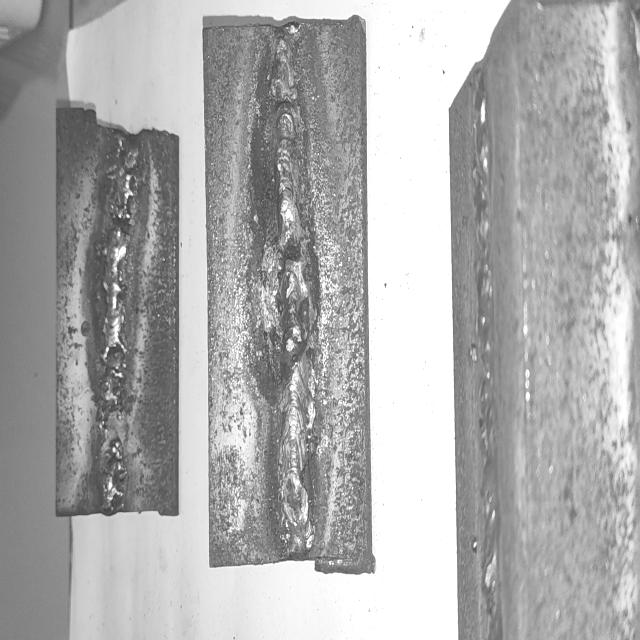Bad Weld: (274, 29, 308, 546), (102, 136, 132, 502)
Defect: (272, 231, 312, 360), (96, 140, 143, 249), (97, 366, 134, 475)
